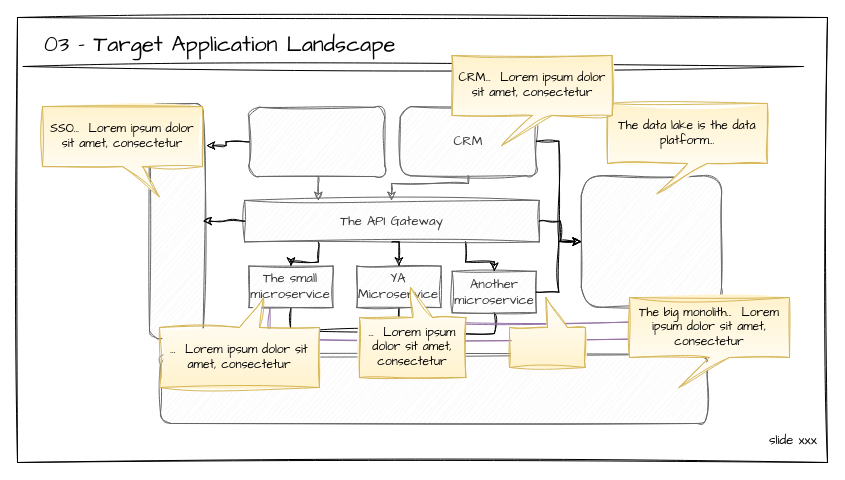
This 845x480 diagram has some shape labels left out. Each missing label, with the centre of its shape:
... Lorem ipsum dolor: point (546, 332)
Customer Portail: point (316, 141)
SSO: point (175, 220)
The Big Monolith: point (434, 388)
The Data Lake: point (651, 241)
